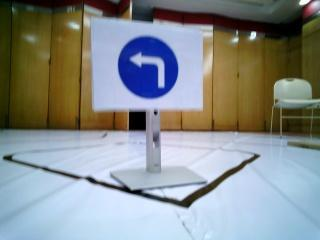left: (96, 19, 201, 106)
